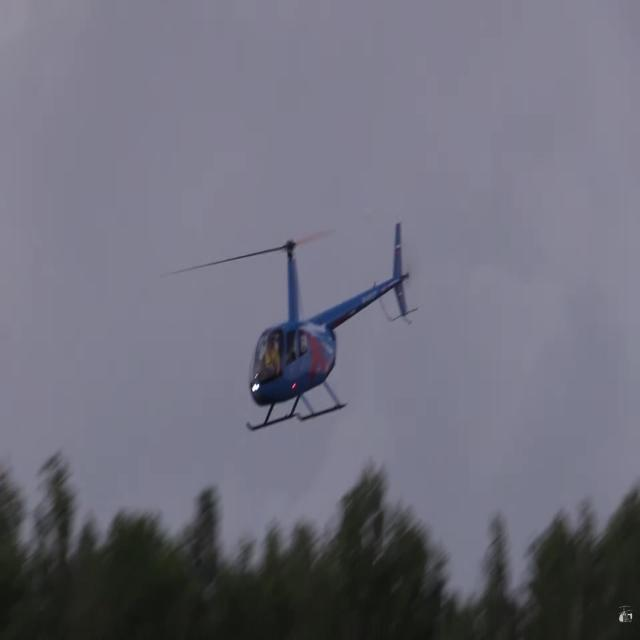CIV_HELO: (244, 221, 410, 433)
